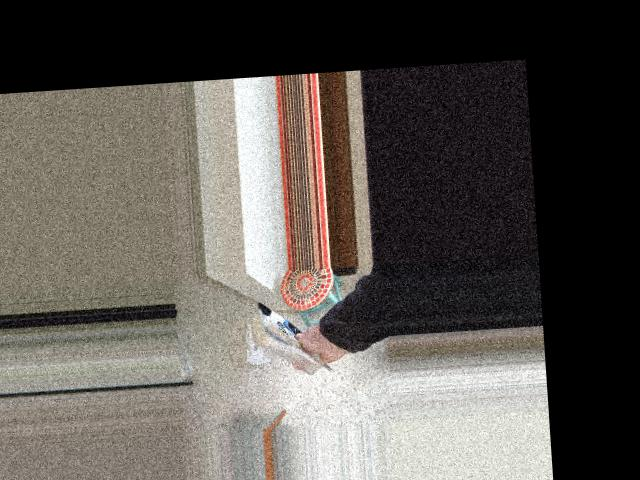cheese: (235, 285, 347, 388)
